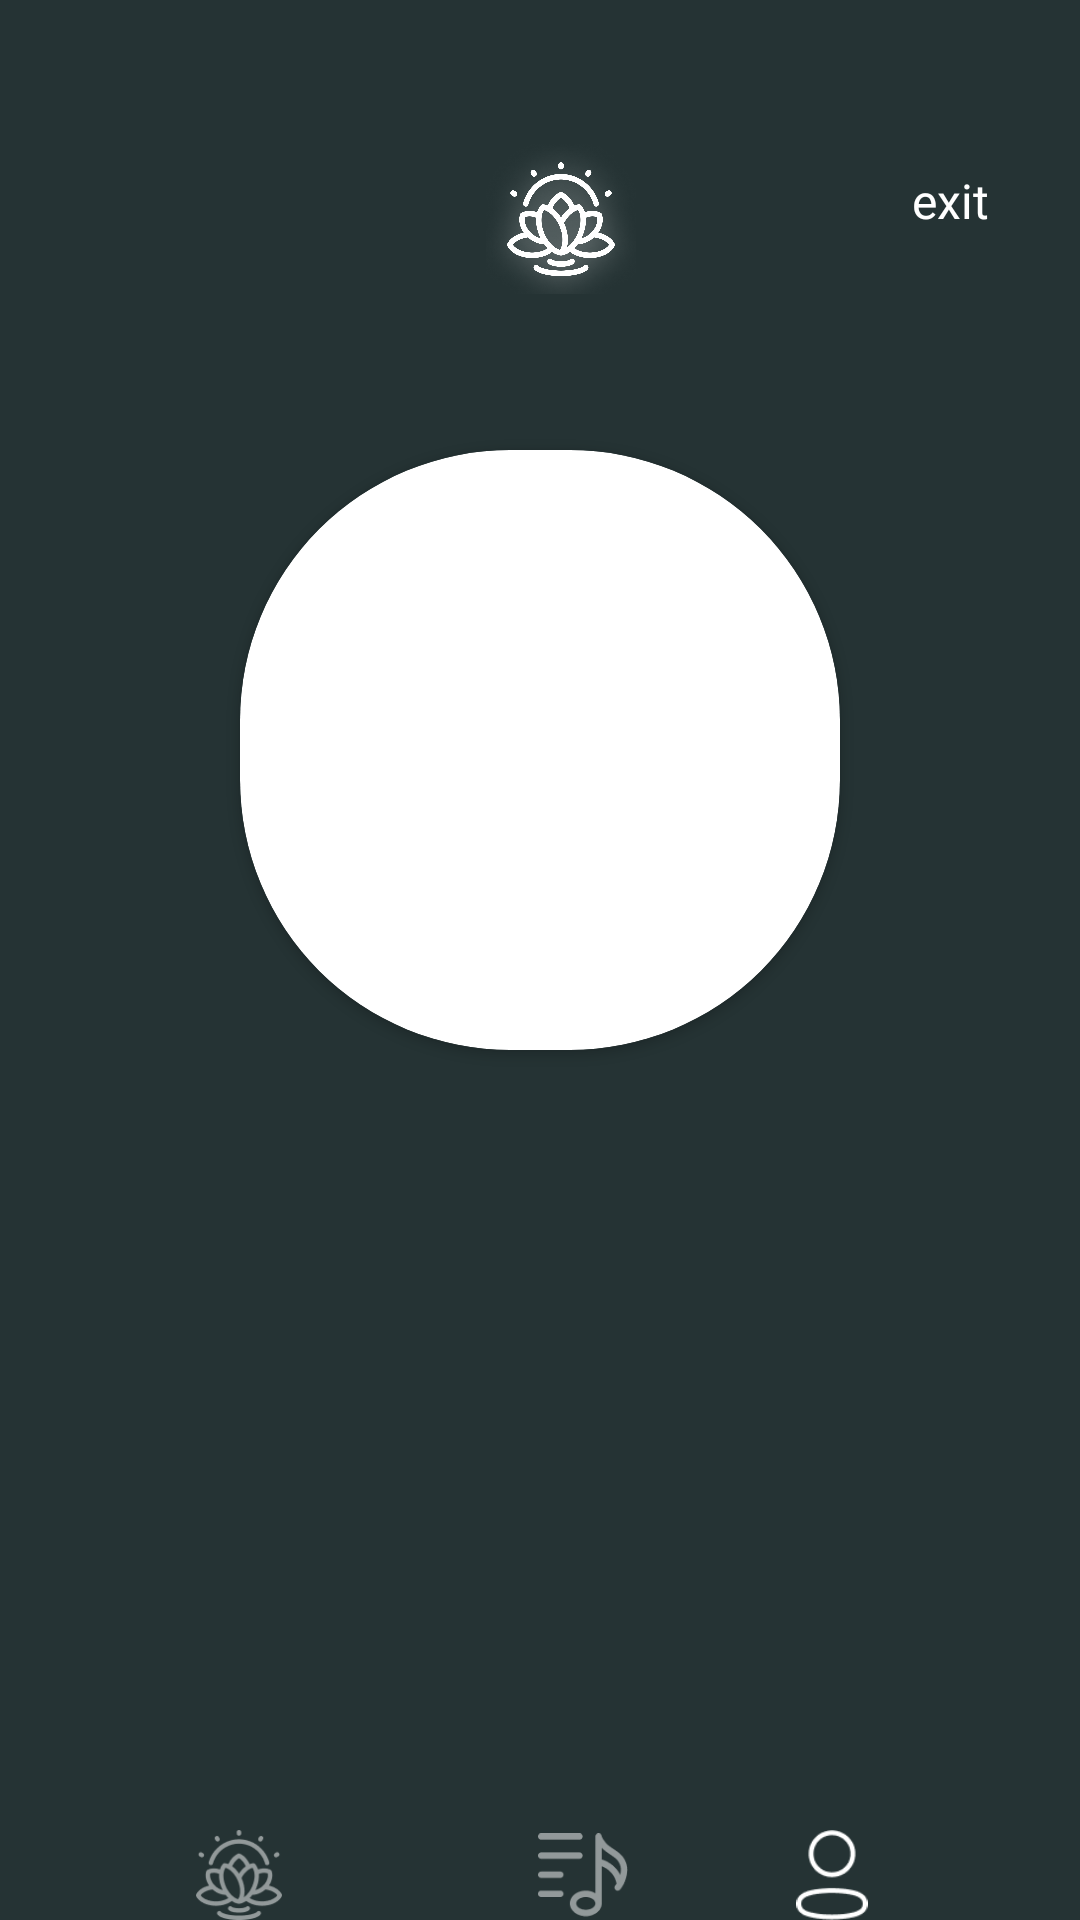

Screen size 1080 x 1920. Icon name, then its center in pixels as (x,y):
music: (583,1875)
profile: (832,1875)
